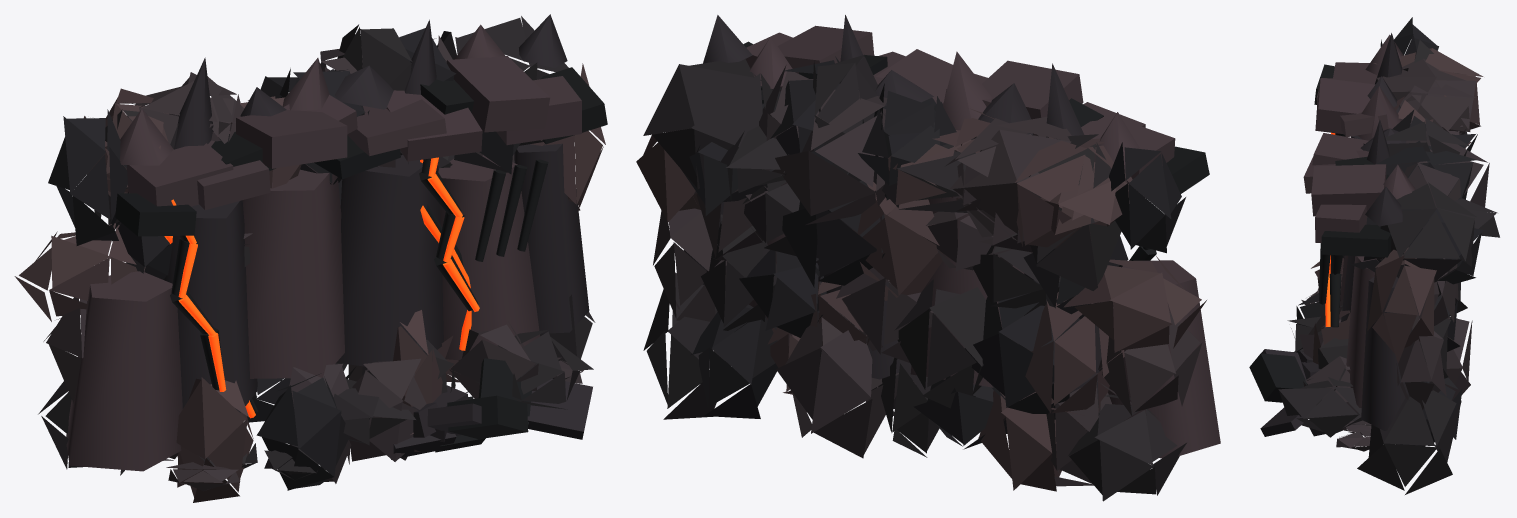
Rendered from lava-rockwall-v2.glb.
The picture shows the model from 3 angles, left to right: view 1: azimuth 30°, elevation 25°; view 2: azimuth 150°, elevation 25°; view 3: azimuth 270°, elevation 25°; orthographic projection. The views are drawn at different scales.
Visible parts, largest first — view 1: b4:lava-rockwall-v2; view 2: b4:lava-rockwall-v2; view 3: b4:lava-rockwall-v2.
Part boxes in pixels (x1,y1,x2,y2): b4:lava-rockwall-v2: [14, 14, 607, 502]; b4:lava-rockwall-v2: [636, 15, 1220, 501]; b4:lava-rockwall-v2: [1249, 17, 1499, 494].
Bounding box in the file's own units: 10.07 × 7.56 × 5.24.
